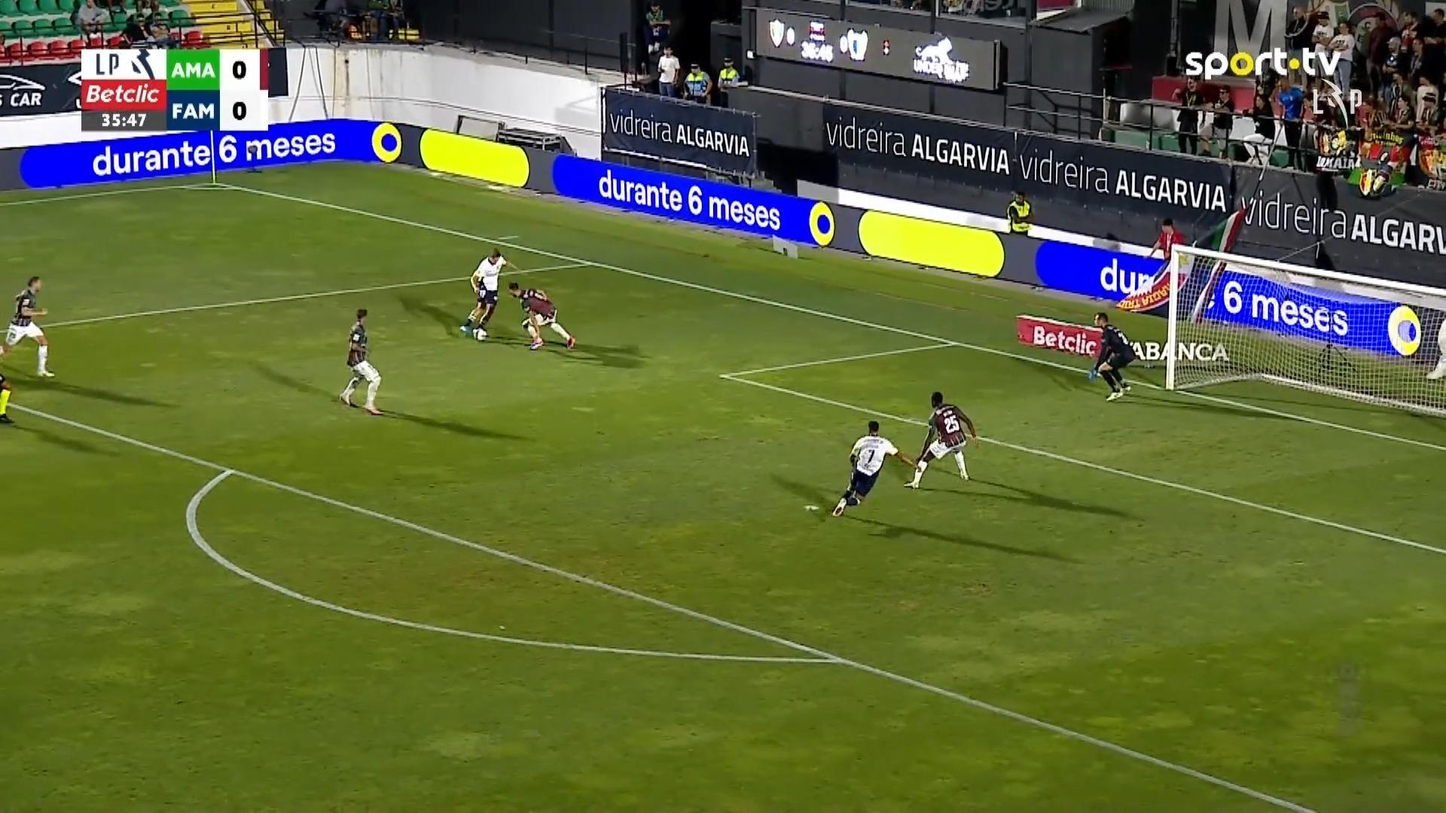ball: (473, 327, 488, 341)
goalkeeper: (1088, 310, 1137, 401)
player: (829, 419, 917, 517), (903, 390, 979, 489), (0, 275, 56, 378), (338, 307, 383, 416), (507, 281, 577, 351), (459, 247, 507, 341), (0, 373, 15, 423)
